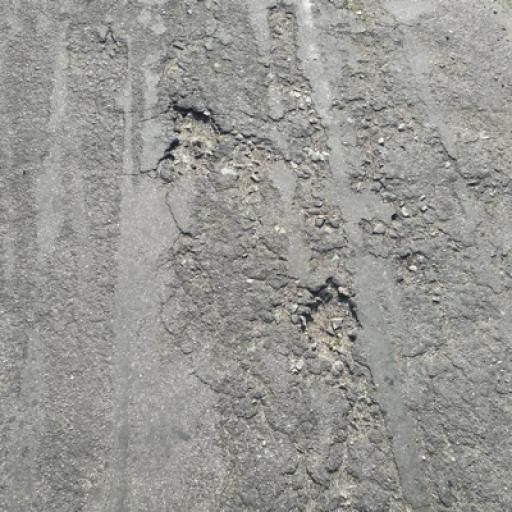pothole: (298, 274, 364, 360), (158, 98, 222, 178)
